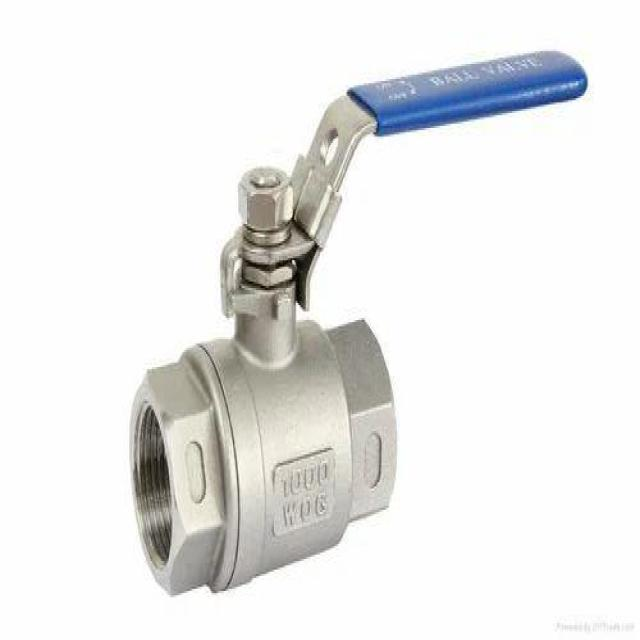opened_valve: (127, 51, 589, 597)
